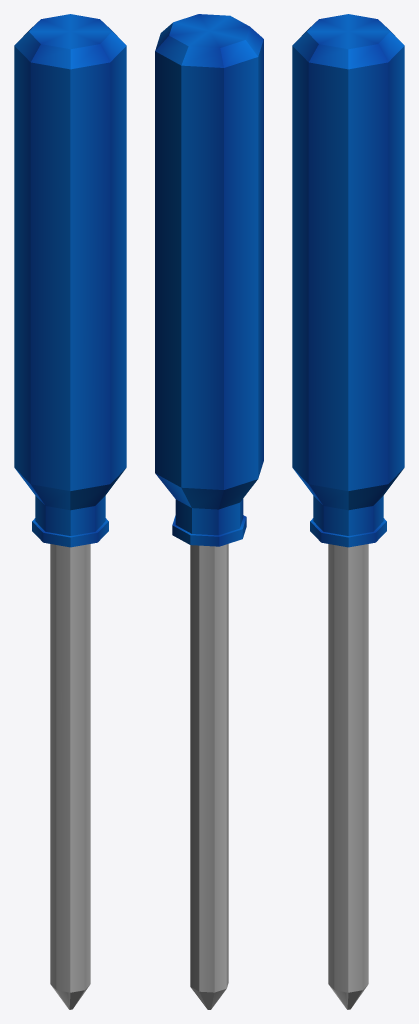
The model's file is Plus Screwdriver.fbx.
3 views of the same model, side by side, from view 1: azimuth 90°, elevation 25°; view 2: azimuth 150°, elevation 25°; view 3: azimuth 270°, elevation 25° (orthographic).
Parts seen in each view (by area): view 1: Plus Screwdriver; view 2: Plus Screwdriver; view 3: Plus Screwdriver.
Part boxes in pixels (x1,y1,x2,y2): Plus Screwdriver: (14, 14, 126, 1009); Plus Screwdriver: (155, 14, 263, 1009); Plus Screwdriver: (292, 14, 404, 1009).
Bounding box in the file's own units: 2.5 × 23.96 × 2.5.
